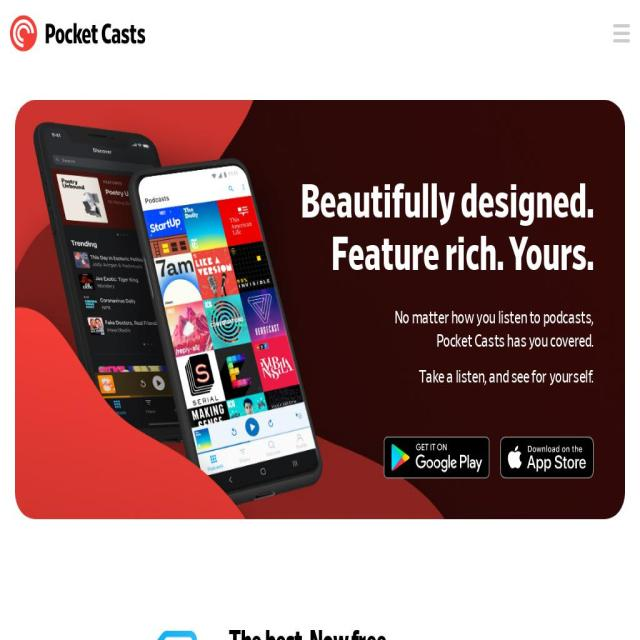button: (10, 15, 146, 52), (384, 437, 490, 481), (500, 437, 594, 481), (613, 24, 630, 43)
heading: (228, 623, 510, 640)
image: (10, 15, 146, 52), (384, 437, 490, 478), (500, 437, 594, 478), (130, 619, 206, 640), (613, 24, 630, 43)
text: (301, 177, 594, 229), (331, 232, 509, 279), (418, 353, 594, 389), (508, 232, 594, 279), (394, 310, 591, 327), (436, 333, 591, 350), (592, 310, 594, 327), (592, 333, 594, 350)
